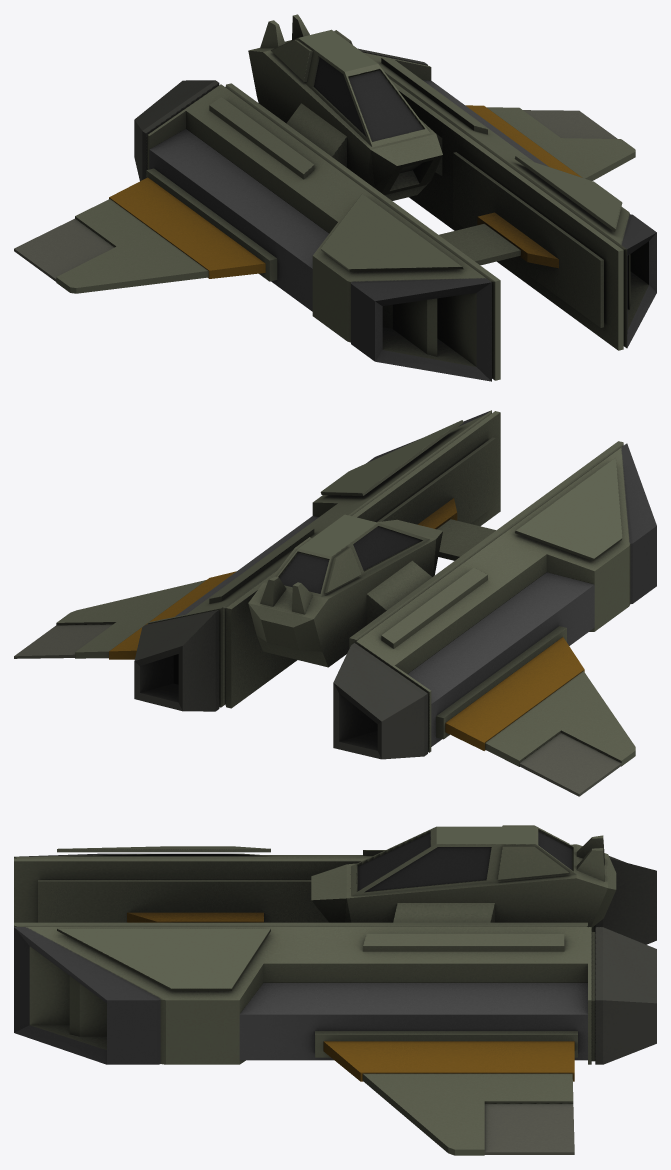
Rendered from FighterMedium_FBX.fbx.
3 renders of one model, top to bottom at view 1: azimuth 30°, elevation 25°; view 2: azimuth 150°, elevation 25°; view 3: azimuth 270°, elevation 25°, orthographic. The views are drawn at different scales.
Visible parts, largest first — view 1: FighterMedium; view 2: FighterMedium; view 3: FighterMedium.
Boxes of the visible parts, box(x1,y1,x2,y2) form: FighterMedium: box(14, 14, 656, 381); FighterMedium: box(14, 410, 656, 796); FighterMedium: box(14, 825, 656, 1155).
Bounding box in the file's own units: 6.86 × 1.89 × 6.34.
